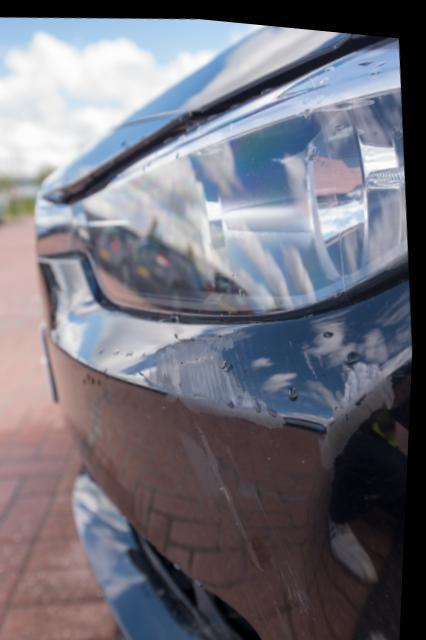scratch: (144, 322, 402, 640)
